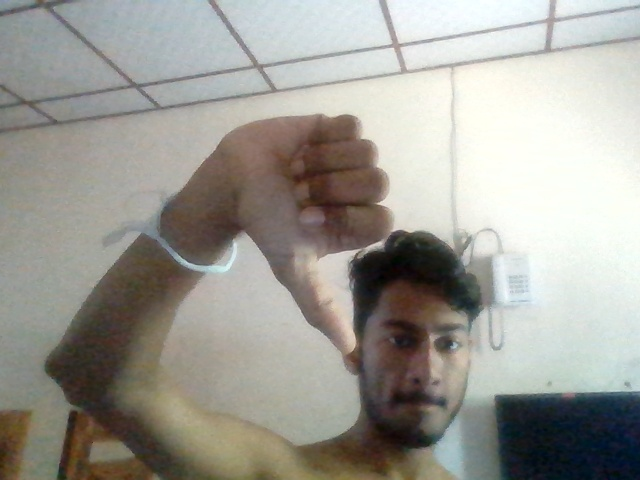ThumbsDown: (221, 114, 390, 358)
